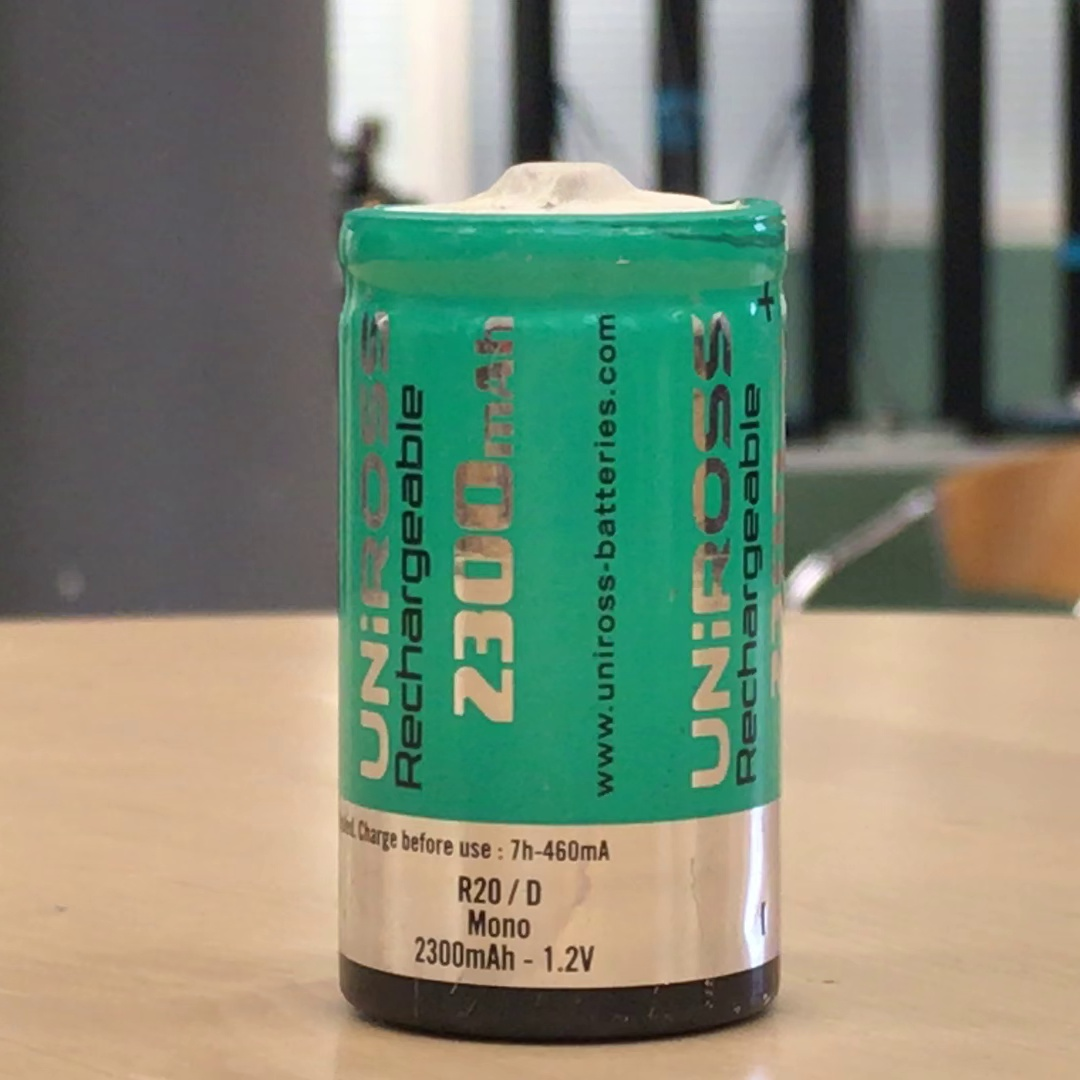keyword: (534, 936, 604, 982)
